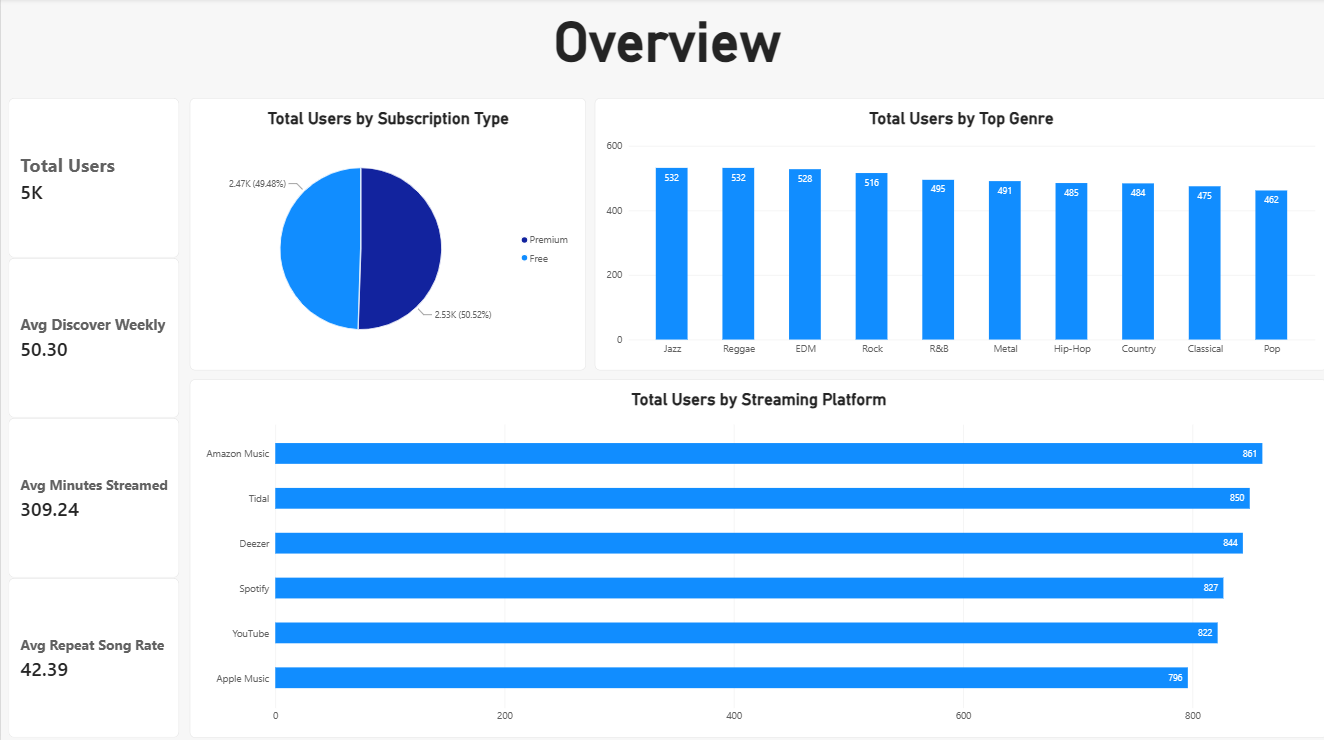

What the dashboard file says about the page in this screenshot:
{"tool":"powerbi","page":{"name":"Overview","canvas":[1920,1080],"ordinal":0},"visuals":[{"type":"textbox","box":[10.9,18.1,1909.2,126.7],"z":0},{"type":"cardVisual","title":"Total Users","fields":{"Data":["CountNonNull(Global_Music_Streaming_Listener_Preferences.User_ID)"]},"box":[10.9,144.8,247.9,231.6],"z":1000},{"type":"cardVisual","fields":{"Data":["Avg(Global_Music_Streaming_Listener_Preferences.Discover Weekly Engagement (%))"]},"box":[10.9,376.4,247.9,231.6],"z":2000},{"type":"cardVisual","fields":{"Data":["Avg(Global_Music_Streaming_Listener_Preferences.Minutes Streamed Per Day)"]},"box":[10.9,608,247.9,231.6],"z":3000},{"type":"cardVisual","fields":{"Data":["Avg(Global_Music_Streaming_Listener_Preferences.Repeat Song Rate (%))"]},"box":[10.9,839.7,247.9,231.6],"z":4000},{"type":"pieChart","title":"Total Users by Subscription Type","fields":{"Category":["Global_Music_Streaming_Listener_Preferences.Subscription Type"],"Y":["CountNonNull(Global_Music_Streaming_Listener_Preferences.User_ID)"]},"box":[273.3,144.8,573.7,394.5],"z":5000},{"type":"columnChart","title":"Total Users by Top Genre","fields":{"Category":["Global_Music_Streaming_Listener_Preferences.Top Genre"],"Y":["CountNonNull(Global_Music_Streaming_Listener_Preferences.User_ID)"]},"box":[859.6,144.8,1060.5,394.5],"z":6000},{"type":"barChart","title":"Total Users by Streaming Platform","fields":{"Category":["Global_Music_Streaming_Listener_Preferences.Streaming Platform"],"Y":["CountNonNull(Global_Music_Streaming_Listener_Preferences.User_ID)"]},"box":[273.3,551.9,1646.8,519.4],"z":7000}]}

Visuals, with their boxes in screenshot pixels (x1, y1, x2, y2), scaled from the page's 1920x1080 canvas onto the 1324x740 screenshot:
textbox: pyautogui.locateOnScreen(8, 12, 1323, 99)
"Total Users" cardVisual: pyautogui.locateOnScreen(8, 99, 178, 258)
cardVisual - Avg(Global_Music_Streaming_Listener_Preferences.Discover Weekly Engagement (%)): pyautogui.locateOnScreen(8, 258, 178, 417)
cardVisual - Avg(Global_Music_Streaming_Listener_Preferences.Minutes Streamed Per Day): pyautogui.locateOnScreen(8, 417, 178, 575)
cardVisual - Avg(Global_Music_Streaming_Listener_Preferences.Repeat Song Rate (%)): pyautogui.locateOnScreen(8, 575, 178, 734)
"Total Users by Subscription Type" pieChart: pyautogui.locateOnScreen(188, 99, 584, 370)
"Total Users by Top Genre" columnChart: pyautogui.locateOnScreen(593, 99, 1323, 370)
"Total Users by Streaming Platform" barChart: pyautogui.locateOnScreen(188, 378, 1323, 734)
